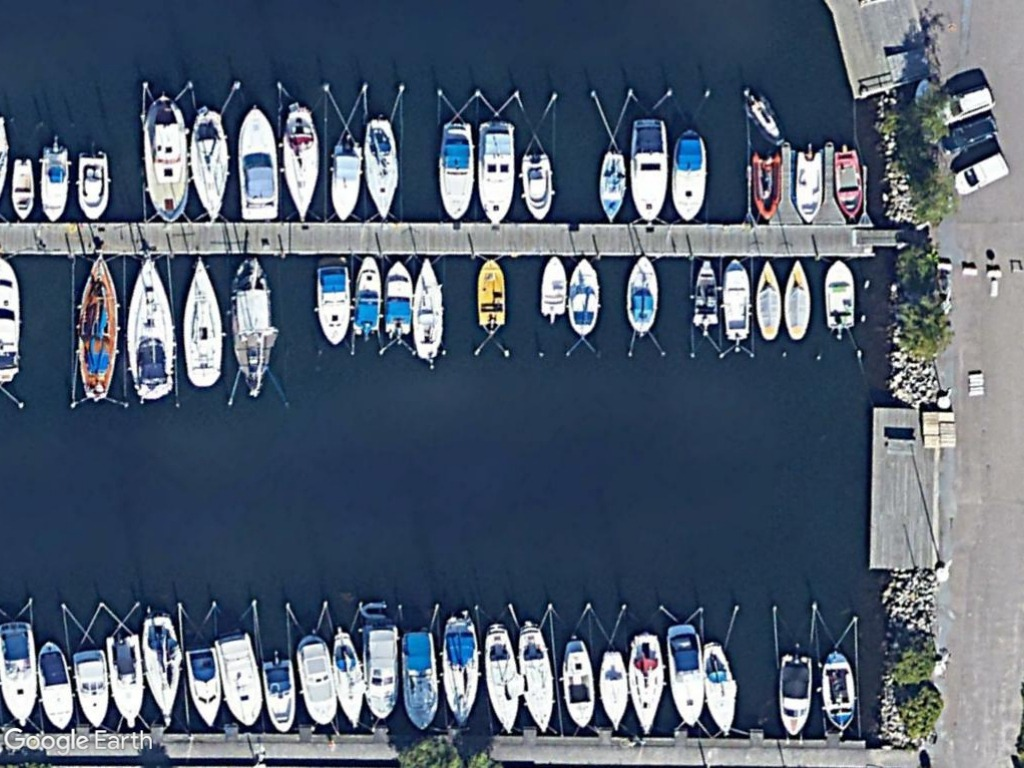boat: (123, 253, 179, 403), (70, 248, 122, 408), (173, 255, 230, 390), (226, 254, 276, 402), (137, 92, 192, 225), (233, 102, 283, 224), (184, 102, 231, 222), (212, 631, 267, 732), (278, 101, 322, 227), (440, 612, 483, 734), (661, 620, 707, 734), (140, 612, 186, 726), (471, 115, 518, 226), (0, 613, 44, 731), (515, 620, 559, 734), (357, 621, 404, 725), (482, 620, 524, 735), (628, 114, 671, 225), (294, 630, 341, 731), (623, 629, 666, 738), (361, 114, 404, 222), (311, 253, 357, 350), (669, 125, 712, 226), (399, 628, 439, 734), (325, 118, 365, 224), (557, 636, 600, 733), (699, 637, 740, 738), (105, 631, 146, 732), (67, 646, 116, 730), (37, 639, 80, 734), (331, 624, 368, 733), (437, 117, 475, 223), (773, 647, 816, 739), (817, 641, 859, 734), (411, 254, 447, 361), (184, 645, 226, 733), (258, 654, 301, 736), (819, 254, 860, 337), (621, 253, 660, 339), (33, 142, 73, 225), (780, 253, 815, 345), (718, 253, 752, 346), (566, 253, 602, 340), (72, 147, 113, 223), (381, 255, 417, 341), (747, 147, 786, 225), (515, 148, 556, 222), (790, 145, 826, 227), (596, 648, 630, 733), (829, 143, 865, 222), (473, 256, 509, 333), (753, 253, 783, 344), (352, 254, 385, 334), (596, 146, 626, 221), (537, 253, 569, 321), (8, 154, 37, 222)
van: (946, 150, 1014, 198), (942, 115, 1000, 162)
